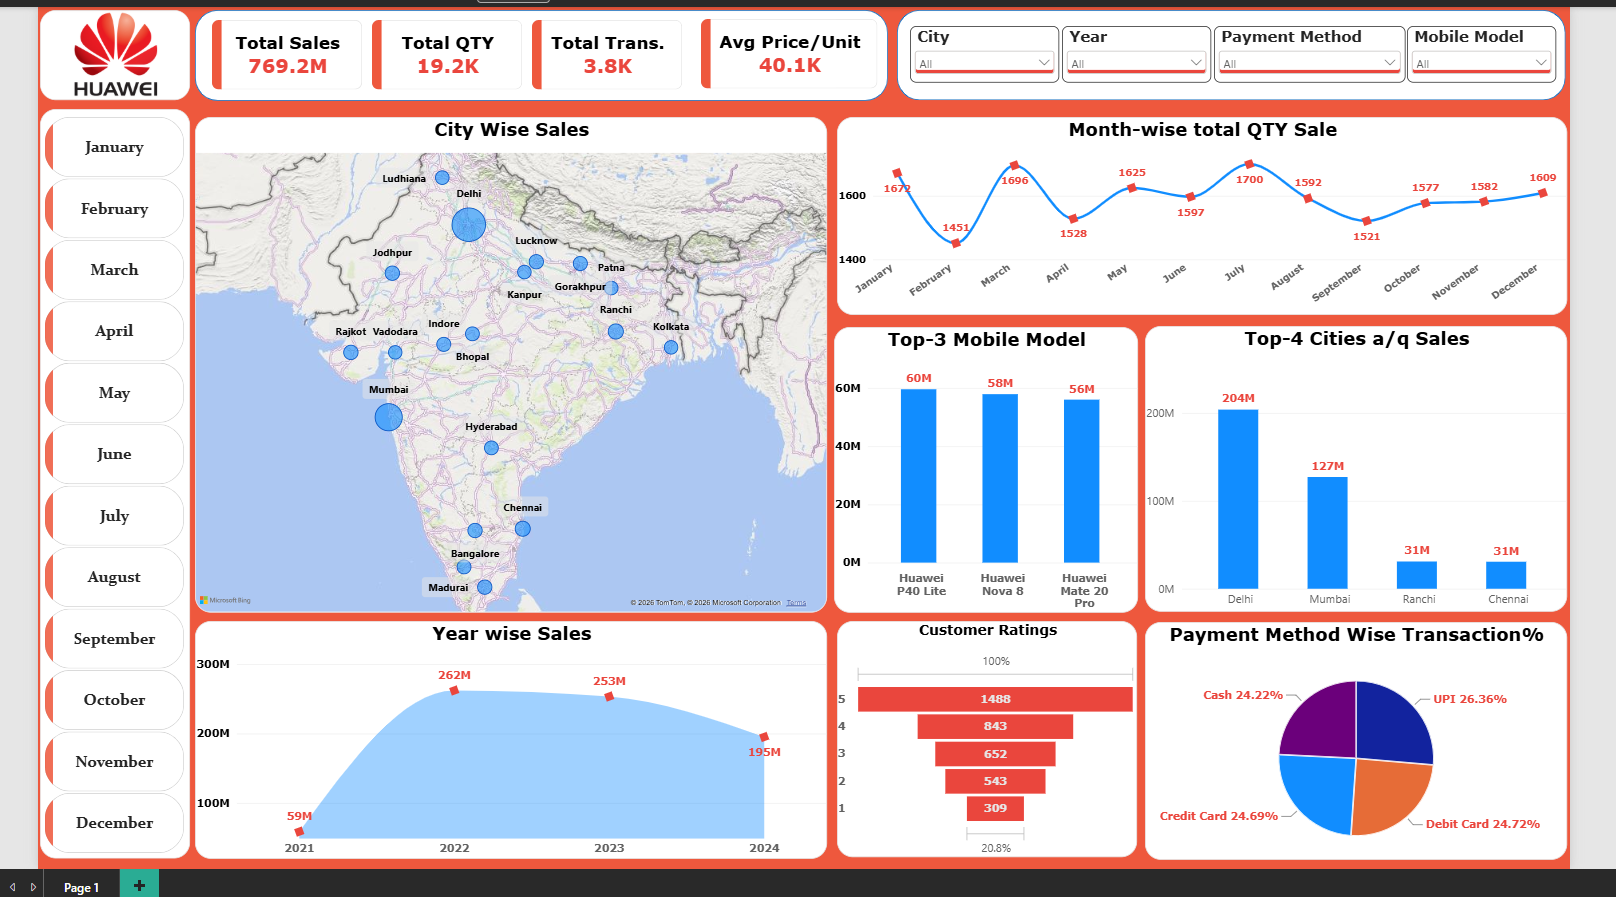

What the dashboard file says about the page in this screenshot:
{"tool":"powerbi","page":{"name":"Page 1","canvas":[1920,1080],"ordinal":0},"visuals":[{"type":"shape","box":[2.6,3.9,187.6,112.6],"z":0},{"type":"shape","box":[2.6,128.1,187.6,939.3],"z":1000},{"type":"advancedSlicerVisual","fields":{"Values":["Sales_Data.Date.Variation.Date Hierarchy.Month"]},"box":[9.1,138.4,174.7,923.8],"z":2000},{"type":"shape","box":[196.7,3.9,868.1,113.9],"z":3000},{"type":"shape","box":[1076,4,837.6,113.1],"z":3500},{"type":"cardVisual","fields":{"Data":["Sales_Data.Total_Sales"]},"box":[218.2,16.2,188.5,87.5],"z":4000},{"type":"cardVisual","fields":{"Data":["Sales_Data.Total_QTY"]},"box":[418.8,16.2,188.5,87.5],"z":5000},{"type":"cardVisual","fields":{"Data":["Sales_Data.Total_Transactions"]},"box":[619.5,16.2,188.5,87.5],"z":6000},{"type":"cardVisual","fields":{"Data":["Sales_Data.Average"]},"box":[830.6,15.5,221.2,88],"z":7000},{"type":"map","title":"City Wise Sales","fields":{"Category":["Sales_Data.City"],"Size":["Sales_Data.Total_Sales"]},"box":[196.7,138.4,791.8,621],"z":8000},{"type":"lineChart","title":"Month-wise total QTY Sale","fields":{"Category":["Sales_Data.Date.Variation.Date Hierarchy.Month","Sales_Data.Date.Variation.Date Hierarchy.Day"],"Y":["Sum(Sales_Data.Units Sold)"]},"box":[1001.4,138.4,914.7,248.4],"z":9000},{"type":"columnChart","title":"Top-3 Mobile Model","fields":{"Category":["Sales_Data.Mobile Model"],"Y":["Sales_Data.Total_Sales"]},"box":[997.9,401.3,381.1,358.2],"z":10000},{"type":"pieChart","title":"Payment Method Wise Transaction%","fields":{"Category":["Sales_Data.Payment Method"],"Y":["Sales_Data.Total_Transactions"]},"box":[1387,770.3,529.2,297.6],"z":11000},{"type":"funnel","title":"Customer Ratings","fields":{"Category":["Sales_Data.Customer Ratings"],"Y":["CountNonNull(Sales_Data.Customer Ratings)"]},"box":[1001.4,769.8,376.5,296.3],"z":12000},{"type":"areaChart","title":"Year wise Sales","fields":{"Category":["Sales_Data.Date.Variation.Date Hierarchy.Year","Sales_Data.Date.Variation.Date Hierarchy.Month"],"Y":["Sales_Data.Total_Sales"]},"box":[196.7,769.8,791.8,297.6],"z":13000},{"type":"columnChart","title":"Top-4 Cities a/q Sales","fields":{"Category":["Sales_Data.City"],"Y":["Sales_Data.Total_Sales"]},"box":[1387,400,529.2,358.2],"z":15000},{"type":"slicer","fields":{"Values":["Sales_Data.Mobile Model"]},"box":[1715.6,24.2,187.2,71.4],"z":16003},{"type":"slicer","fields":{"Values":["Sales_Data.Payment Method"]},"box":[1473.2,24.2,239.7,71.4],"z":16004},{"type":"slicer","fields":{"Values":["Sales_Data.Date.Variation.Date Hierarchy.Year"]},"box":[1283.3,24.2,187.2,71.4],"z":16005},{"type":"slicer","fields":{"Values":["Sales_Data.City"]},"box":[1092.1,24.2,187.2,71.4],"z":16006},{"type":"image","box":[0,0,196.7,116.4],"z":16007}]}

Visuals, with their boxes in screenshot pixels (x1, y1, x2, y2):
shape: region(40, 20, 188, 109)
shape: region(40, 118, 188, 860)
advancedSlicerVisual - Sales_Data.Date.Variation.Date Hierarchy.Month: region(45, 126, 183, 855)
shape: region(193, 20, 879, 110)
shape: region(887, 20, 1549, 109)
cardVisual - Sales_Data.Total_Sales: region(210, 30, 359, 99)
cardVisual - Sales_Data.Total_QTY: region(369, 30, 517, 99)
cardVisual - Sales_Data.Total_Transactions: region(527, 30, 676, 99)
cardVisual - Sales_Data.Average: region(694, 29, 868, 99)
"City Wise Sales" map: region(193, 126, 818, 616)
"Month-wise total QTY Sale" lineChart: region(828, 126, 1551, 322)
"Top-3 Mobile Model" columnChart: region(826, 334, 1127, 616)
"Payment Method Wise Transaction%" pieChart: region(1133, 625, 1551, 860)
"Customer Ratings" funnel: region(828, 625, 1126, 859)
"Year wise Sales" areaChart: region(193, 625, 818, 860)
"Top-4 Cities a/q Sales" columnChart: region(1133, 333, 1551, 615)
slicer - Sales_Data.Mobile Model: region(1392, 36, 1540, 92)
slicer - Sales_Data.Payment Method: region(1201, 36, 1390, 92)
slicer - Sales_Data.Date.Variation.Date Hierarchy.Year: region(1051, 36, 1199, 92)
slicer - Sales_Data.City: region(900, 36, 1048, 92)
image: region(38, 17, 193, 109)
